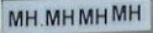character: (78, 7, 93, 26), (45, 8, 60, 26), (111, 4, 126, 22), (8, 9, 22, 27), (128, 3, 141, 22), (61, 8, 74, 25), (95, 7, 107, 24), (25, 8, 36, 26)
